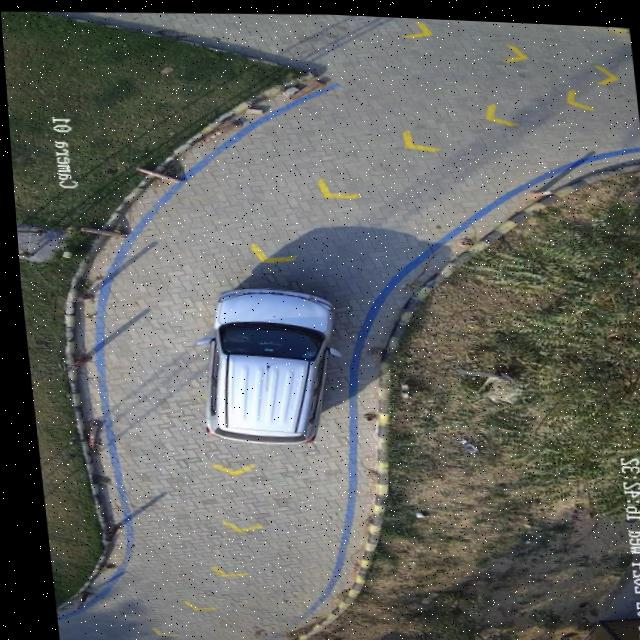car: (192, 286, 334, 441)
